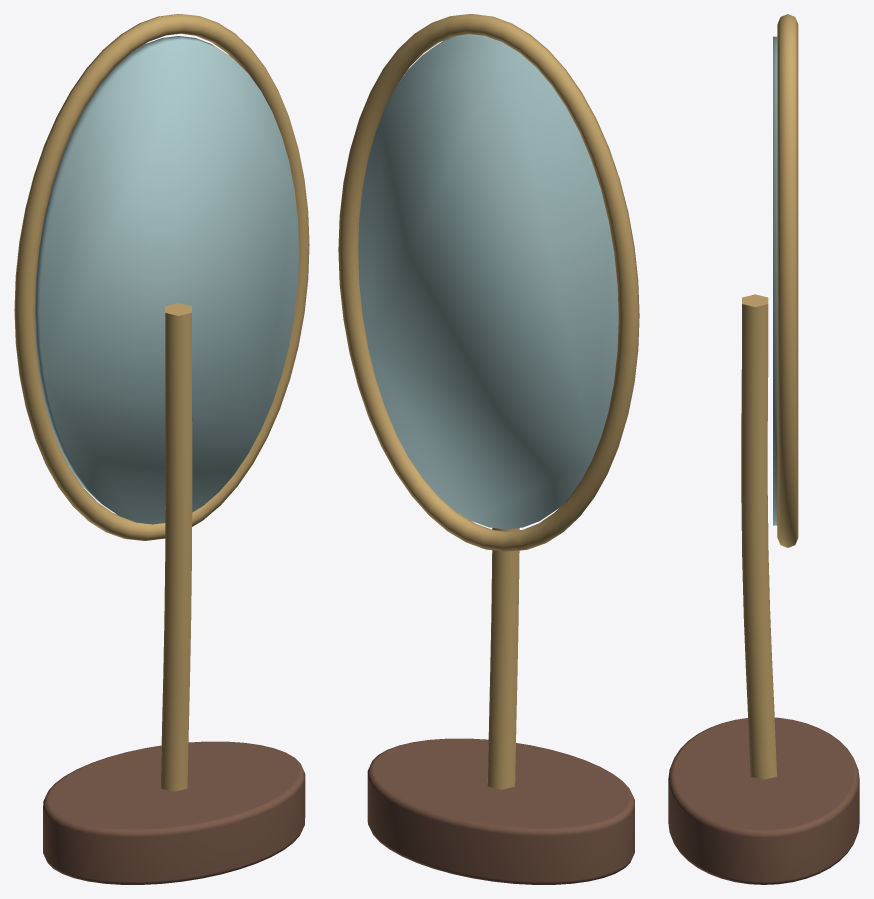
Rendered from mirror.oval.glb.
The picture shows the model from 3 angles, left to right: view 1: azimuth 30°, elevation 25°; view 2: azimuth 150°, elevation 25°; view 3: azimuth 270°, elevation 25°; orthographic projection. The views are drawn at different scales.
Parts seen in each view (by area): view 1: Weighted oval base; view 2: Weighted oval base; view 3: Weighted oval base.
Part boxes in pixels (x1=…): Weighted oval base: x1=14, y1=14, x2=309, y2=884; Weighted oval base: x1=338, y1=14, x2=639, y2=884; Weighted oval base: x1=668, y1=14, x2=859, y2=884.
Size of the model in its own units: 0.768 by 2.04 by 0.44.
